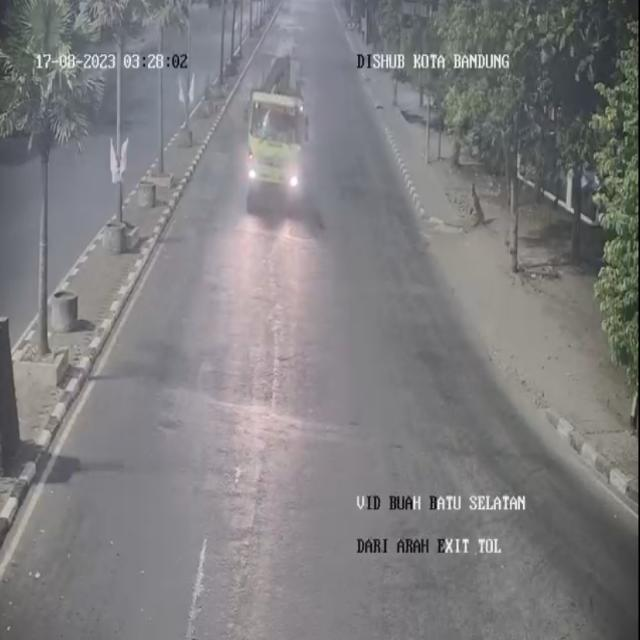truck: (232, 49, 310, 214)
